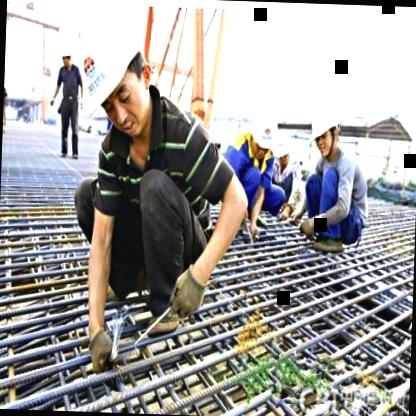helmet: (84, 24, 160, 146), (307, 98, 345, 164), (250, 95, 280, 159), (272, 124, 297, 170), (57, 40, 74, 70)
